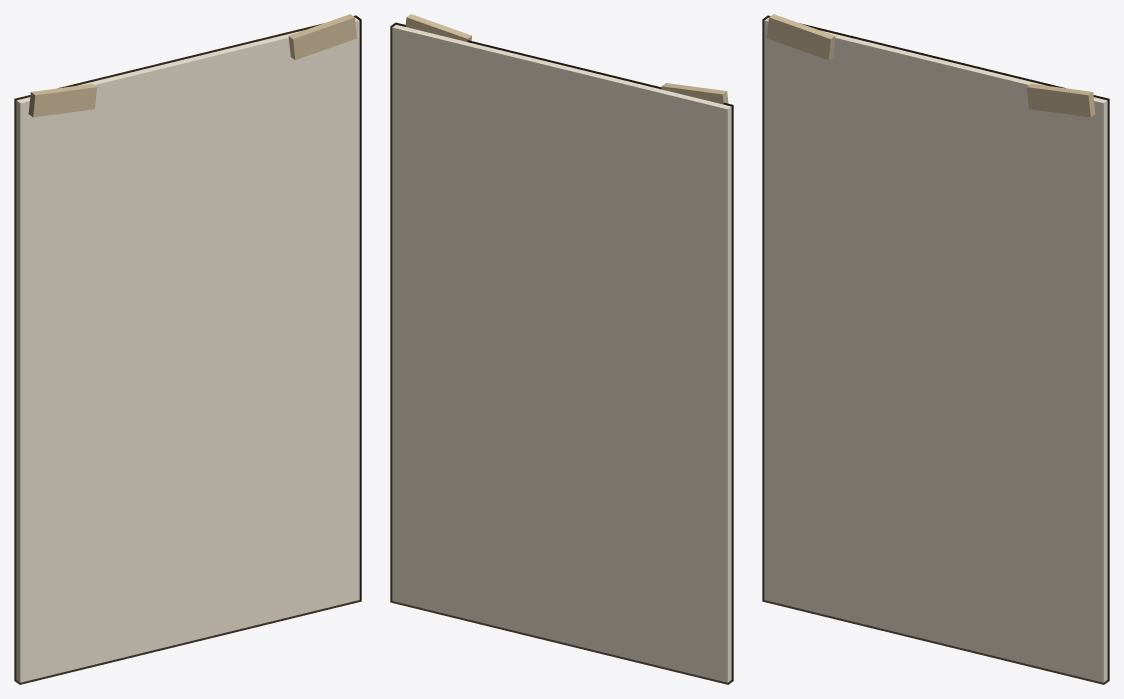
File: poster.glb
3 renders of one model, left to right at view 1: azimuth 30°, elevation 25°; view 2: azimuth 150°, elevation 25°; view 3: azimuth 330°, elevation 25°, orthographic.
Visible parts, largest first — view 1: poster-paper, poster-outline, poster-tape.001, poster-tape; view 2: poster-paper, poster-outline, poster-tape.001, poster-tape; view 3: poster-paper, poster-outline, poster-tape, poster-tape.001.
Part boxes in pixels (<box>): poster-paper: <box>16,17,359,682</box>; poster-outline: <box>14,15,361,684</box>; poster-tape.001: <box>288,14,356,60</box>; poster-tape: <box>28,83,96,117</box>; poster-paper: <box>392,24,731,682</box>; poster-outline: <box>390,22,733,684</box>; poster-tape.001: <box>405,14,471,41</box>; poster-tape: <box>661,83,728,104</box>; poster-paper: <box>764,17,1107,682</box>; poster-outline: <box>762,15,1109,684</box>; poster-tape: <box>767,14,835,60</box>; poster-tape.001: <box>1027,83,1095,117</box>.
Size of the model in its own units: 0.6046 by 0.998 by 0.0303.
